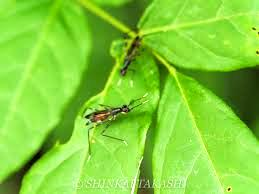Helopeltis-insect: (82, 100, 133, 127), (121, 34, 142, 79)
